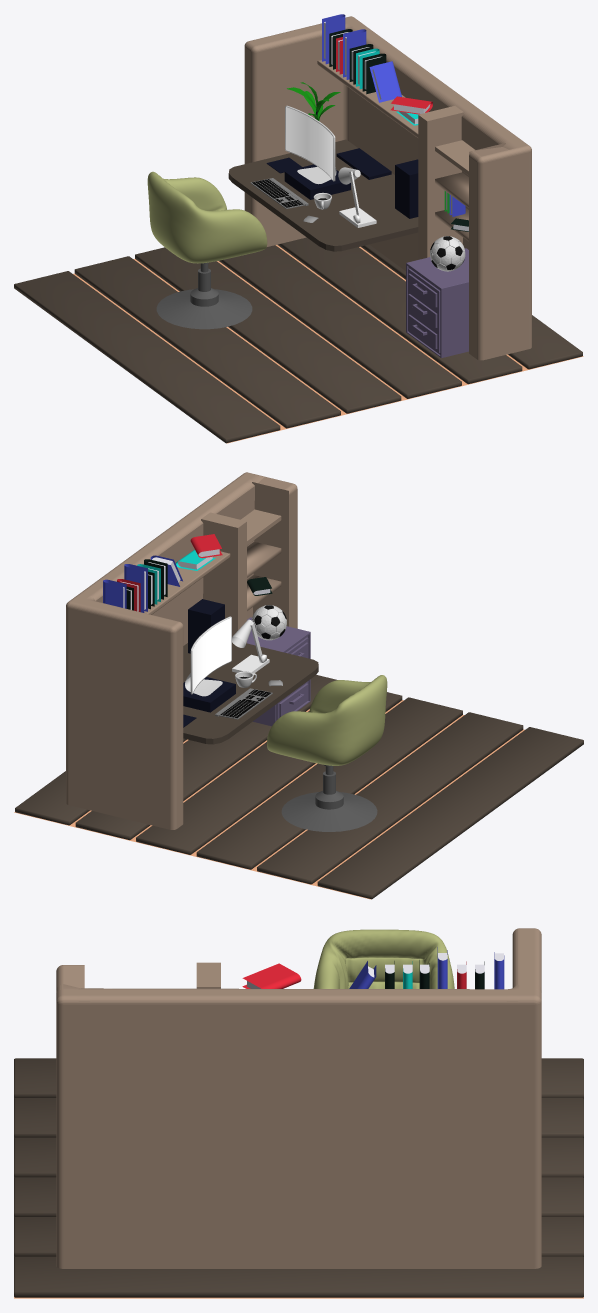
Rendered from setupp.glb.
3 renders of one model, top to bottom at view 1: azimuth 30°, elevation 25°; view 2: azimuth 150°, elevation 25°; view 3: azimuth 270°, elevation 25°, orthographic. The views are drawn at different scales.
Visible parts, largest first — view 1: bricks, shelf, Plane, Cube.029, Cube, partition, Cylinder, Plane.003, Ground, Plane.005, Plane.001, Plane.004 (+8 smaller); view 2: bricks, shelf, Cube.029, Plane, partition, Cylinder, Cube, Plane.003, Ground, Plane.005, Plane.001, Icosphere (+5 smaller); view 3: shelf, bricks, Cube.029, Ground, Cube.022, partition.
Part boxes in pixels (left/top/right/bottom): bricks: left=14, top=237, right=582, bottom=443; shelf: left=244, top=16, right=531, bottom=360; Plane: left=228, top=139, right=418, bottom=251; Cube.029: left=147, top=171, right=267, bottom=263; Cube: left=406, top=248, right=468, bottom=357; partition: left=418, top=106, right=463, bottom=259; Cylinder: left=156, top=262, right=252, bottom=329; Plane.003: left=285, top=105, right=335, bottom=181; Ground: left=73, top=245, right=583, bottom=443; Plane.005: left=395, top=159, right=418, bottom=218; Plane.001: left=317, top=60, right=418, bottom=137; Plane.004: left=284, top=164, right=350, bottom=199; bricks: left=15, top=674, right=583, bottom=899; shelf: left=66, top=472, right=297, bottom=829; Cube.029: left=267, top=675, right=387, bottom=765; Plane: left=183, top=642, right=318, bottom=744; partition: left=201, top=512, right=246, bottom=642; Cylinder: left=281, top=765, right=377, bottom=831; Cube: left=247, top=617, right=310, bottom=726; Plane.003: left=190, top=616, right=231, bottom=694; Ground: left=14, top=700, right=524, bottom=899; Plane.005: left=188, top=599, right=224, bottom=653; Plane.001: left=144, top=551, right=230, bottom=614; Icosphere: left=251, top=605, right=286, bottom=640; shelf: left=56, top=928, right=541, bottom=1268; bricks: left=14, top=1058, right=583, bottom=1297; Cube.029: left=313, top=929, right=454, bottom=988; Ground: left=14, top=1297, right=583, bottom=1298; Cube.022: left=242, top=963, right=301, bottom=988; partition: left=196, top=962, right=220, bottom=988.
Size of the model in its own units: 7.79 by 4.8 by 8.
